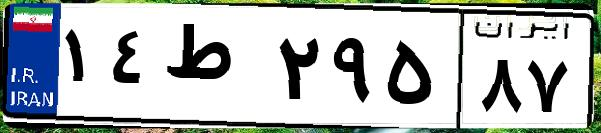1: (57, 26, 110, 100)
2: (270, 28, 330, 110)
4: (110, 28, 158, 98)
5: (385, 28, 445, 110)
7: (525, 38, 570, 115)
8: (475, 38, 525, 113)
9: (330, 28, 385, 110)
ط: (158, 20, 270, 120)
